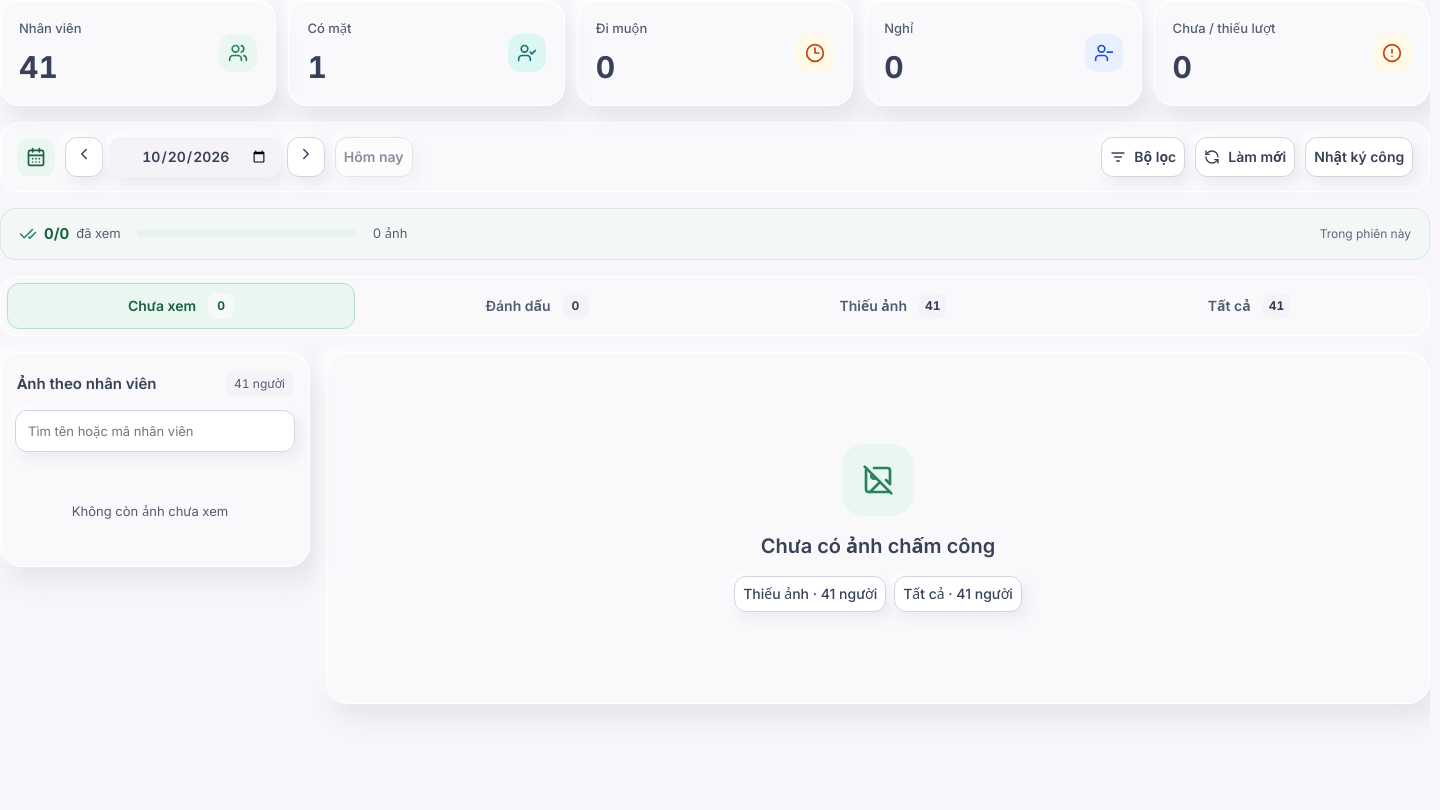
Test case: HR daily attendance photo workstation › limits the employee queue to 40 items and loads the remainder on request
This screenshot has width=1440, height=810.
Check: the heading "Ảnh theo nhân viên" is shown, box [17, 373, 156, 394]
Click the button "Tất cả 41". click: (1249, 306)
box: [1075, 283, 1423, 329]
(page scrolled)
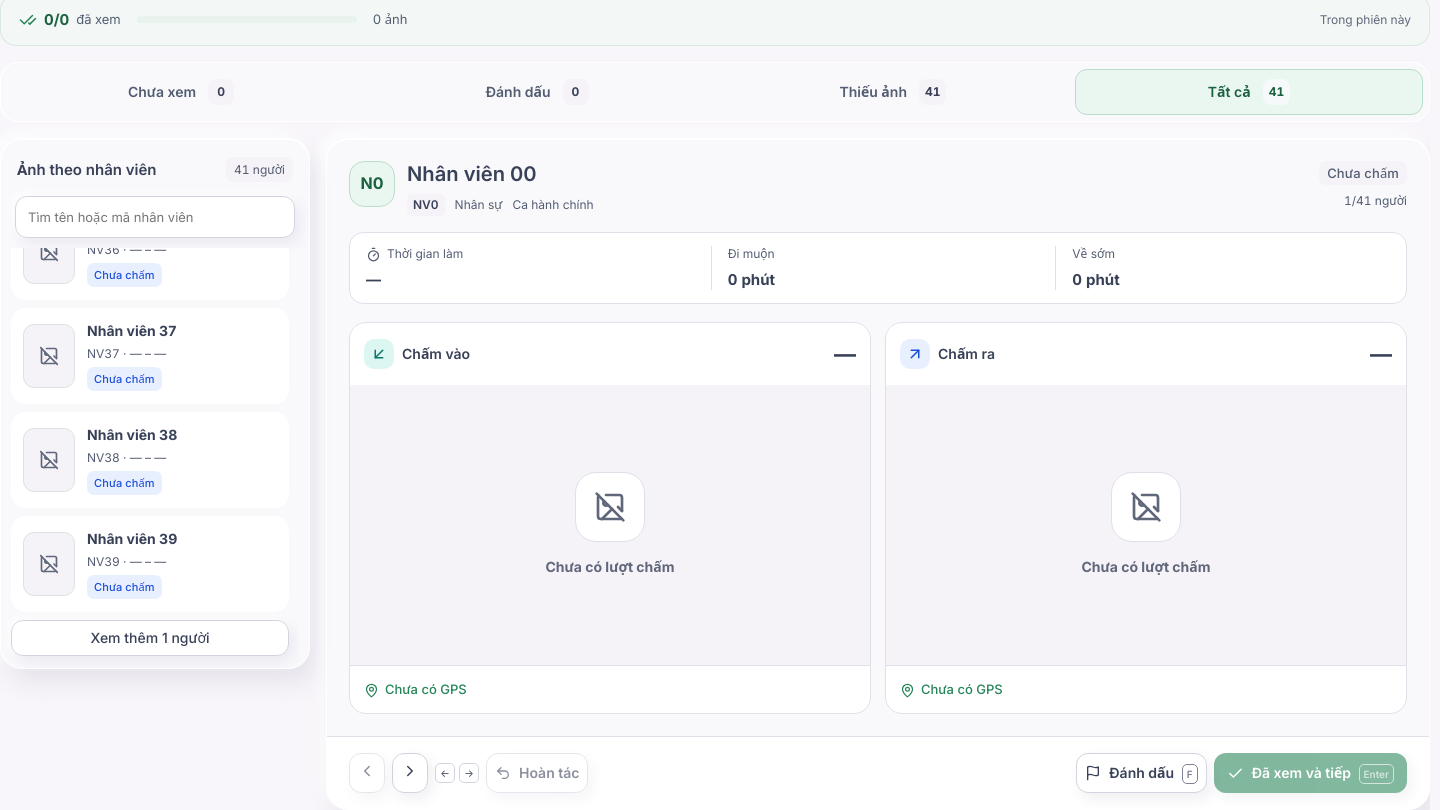
Click the button "Xem thêm 1 người". click: (150, 638)
box: [11, 620, 289, 656]
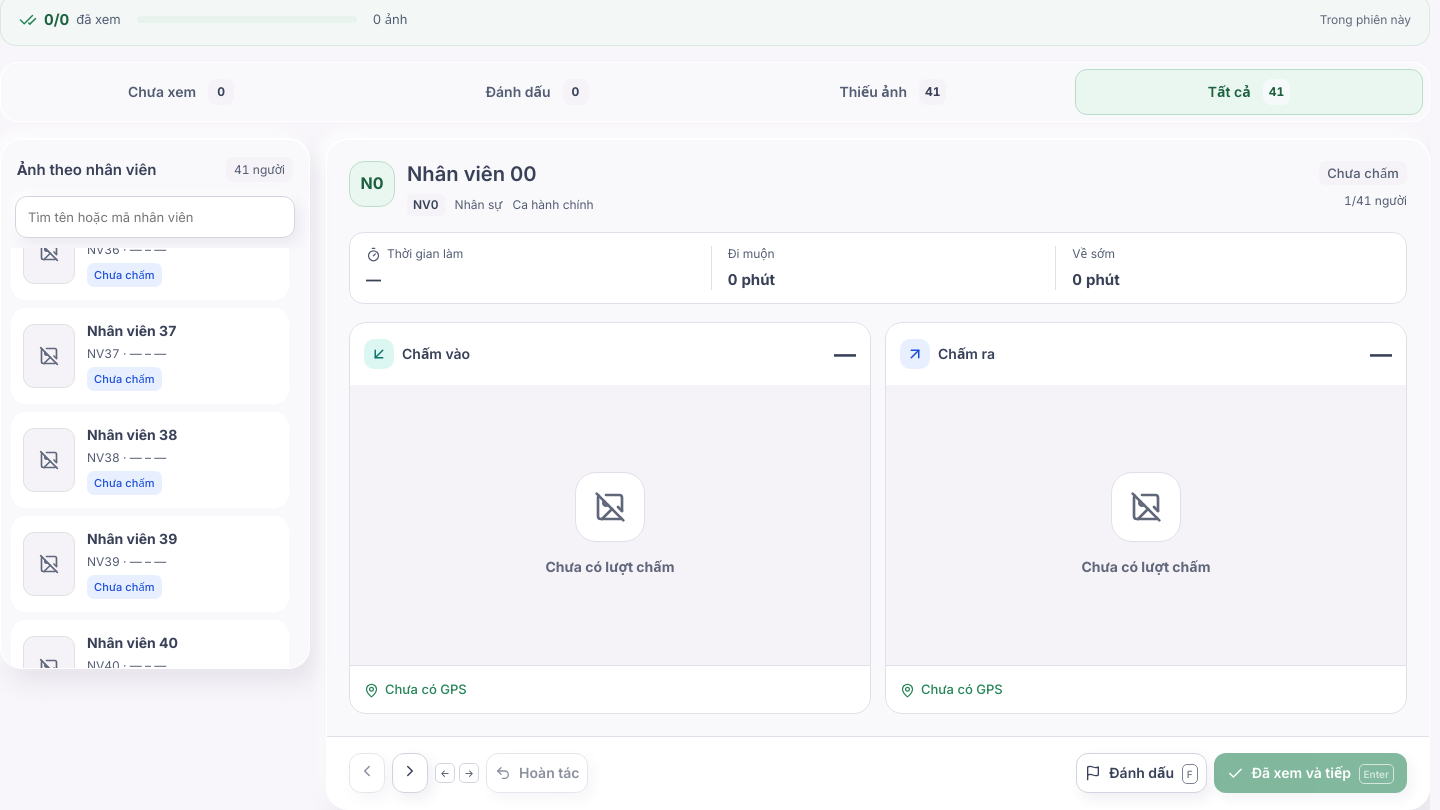
Click the button with aria-label "Kiểm tra Nhân viên 40". click: (150, 668)
box: [11, 620, 289, 716]
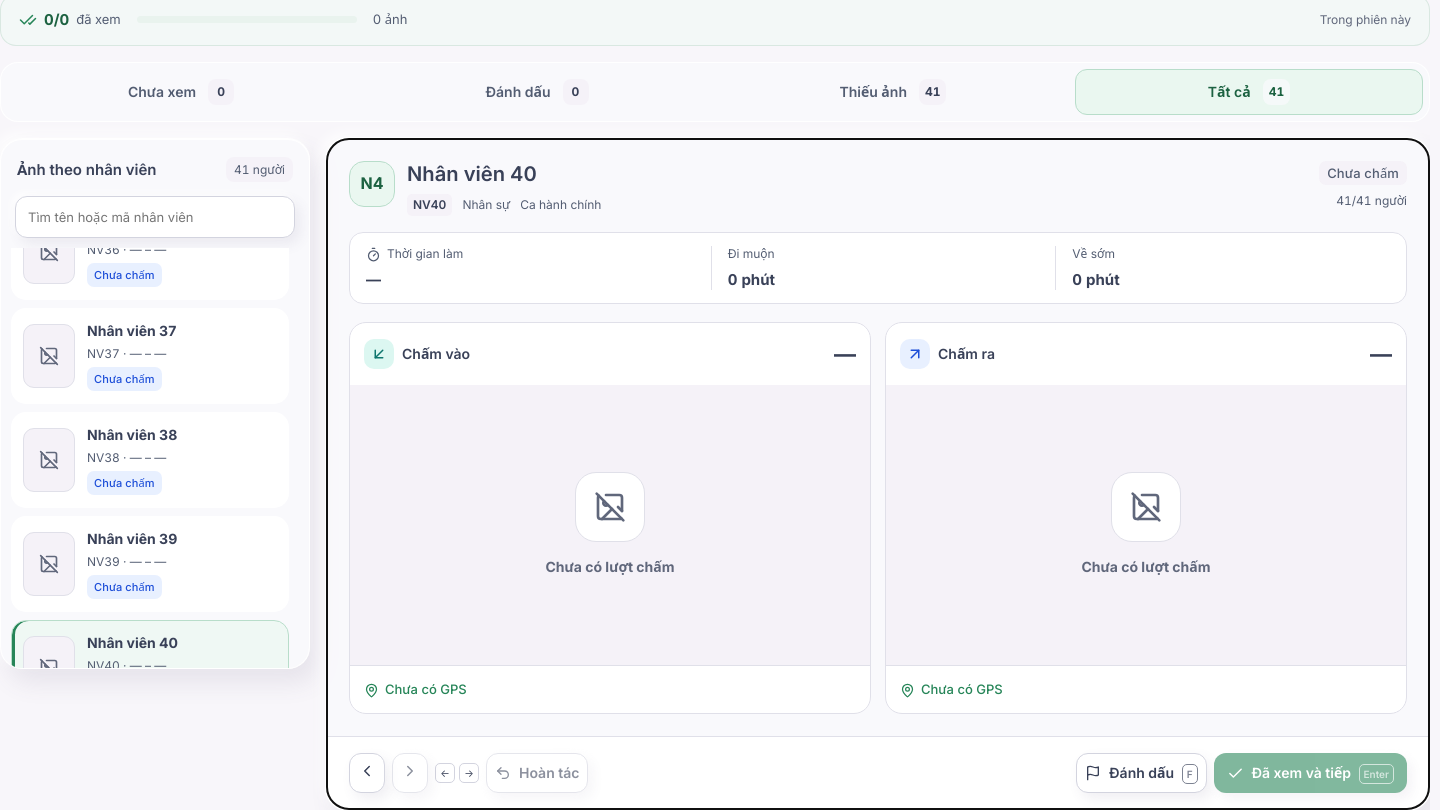
Check: the heading "Nhân viên 40" is shown, box [407, 161, 537, 186]
